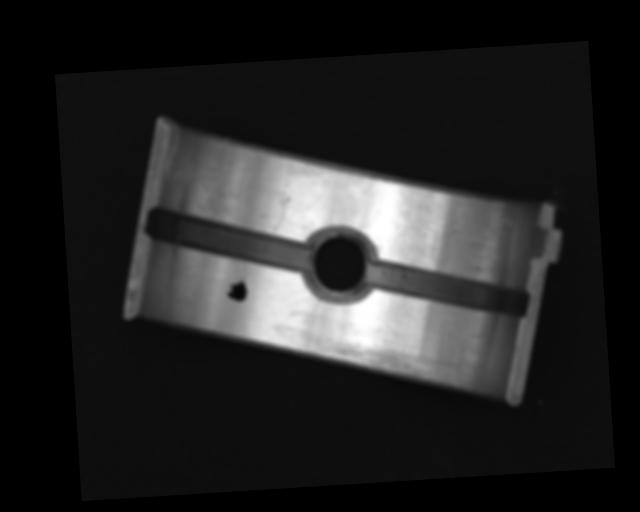blot: (225, 276, 249, 303)
bruise: (442, 227, 462, 236), (501, 217, 515, 227)
gap: (146, 200, 310, 281), (365, 253, 530, 326)
hole: (304, 227, 378, 305)
nick: (269, 183, 294, 234)
scratch: (315, 333, 465, 395)
